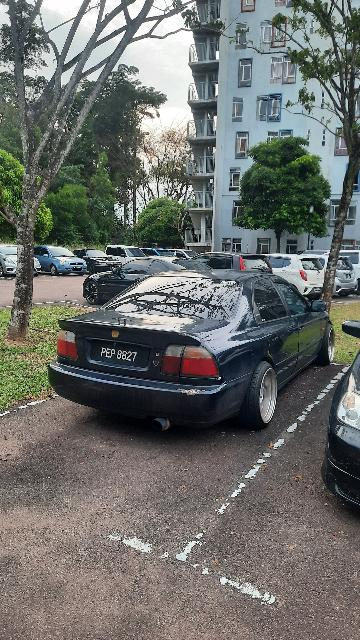License_Plate: (89, 339, 153, 371)
car: (48, 271, 338, 433), (82, 257, 216, 305), (263, 249, 335, 297), (203, 254, 275, 292), (40, 246, 87, 275), (80, 250, 125, 274)
